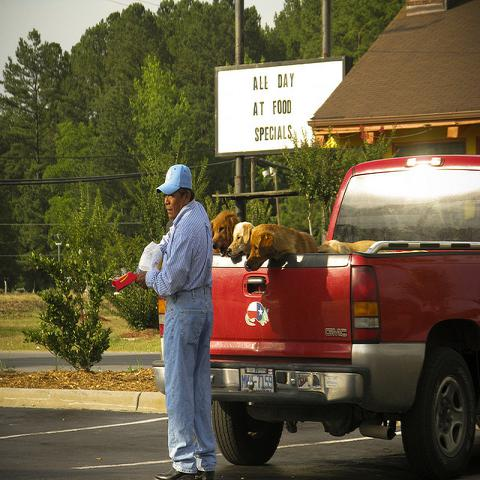truck: (208, 150, 480, 473)
